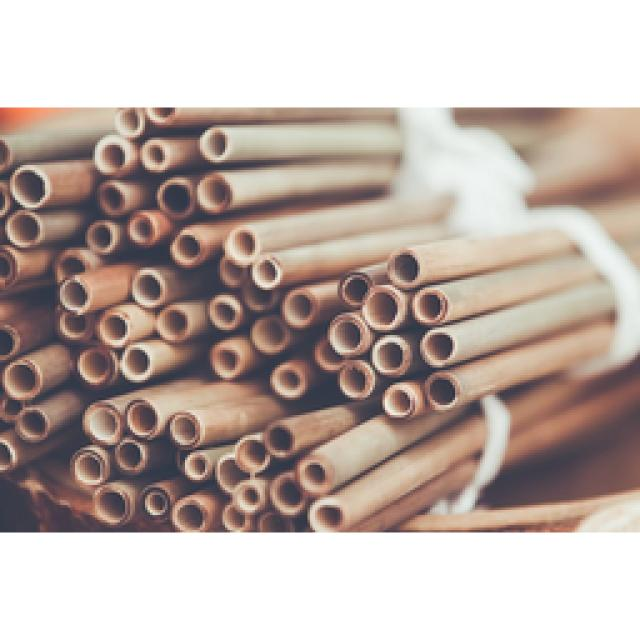plastic: (0, 105, 638, 527)
